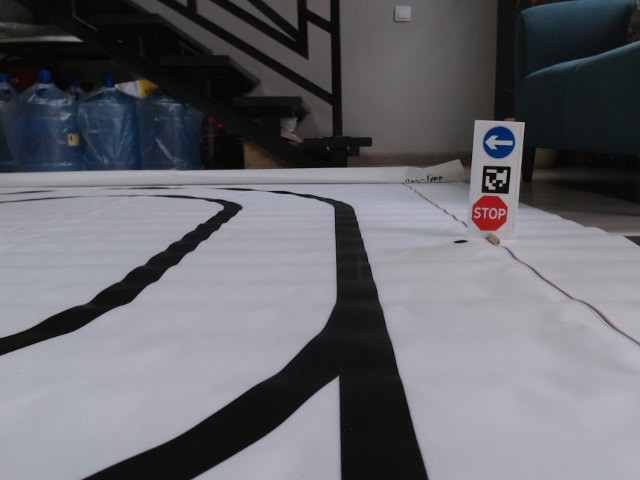Stop: (474, 195, 509, 236)
